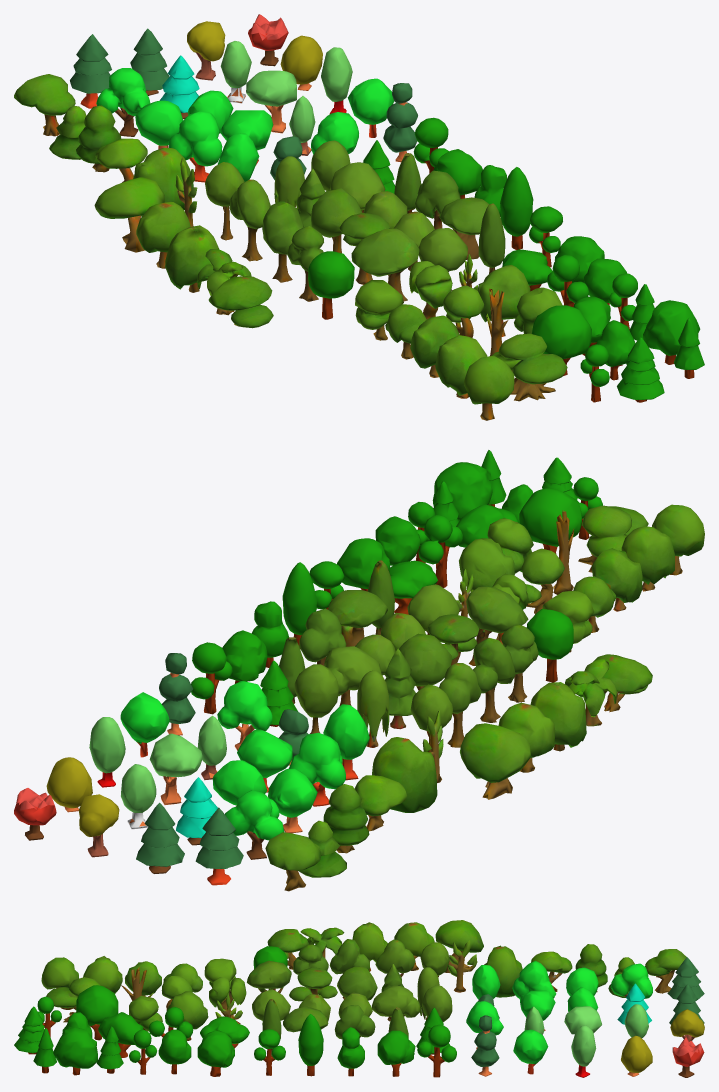
The model's file is Treesblend.fbx.
3 renders of one model, top to bottom at view 1: azimuth 30°, elevation 25°; view 2: azimuth 150°, elevation 25°; view 3: azimuth 270°, elevation 25°, orthographic. The views are drawn at different scales.
Visible parts, largest first — view 1: NewTrees.022, TREE1.006, NewTrees.017, Trees.014, NewTrees.021, T16, NewTrees.019, NewTrees.010, T18, NewTrees.011, TREE1.001, NewTrees.018 (+68 smaller); view 2: NewTrees.017, NewTrees.015, Trees.014, T16, NewTrees.019, T18, NewTrees.022, TREE1.006, NewTrees.009, T5, T19, T7 (+67 smaller); view 3: Trees.012, Trees.014, NewTrees.017, Trees.008, Trees.006, NewTrees.015, TREE1.014, Trees.007, Trees.003, TREE1.007, TREE1.006, T20 (+67 smaller).
Part boxes in pixels (x1,y1,x2,y2): NewTrees.022: (491,333,567,401); TREE1.006: (351,228,419,301); NewTrees.017: (94,177,164,252); Trees.014: (532,305,591,375); NewTrees.021: (208,276,273,328); T16: (168,111,222,182); NewTrees.019: (165,225,218,292); NewTrees.010: (463,355,514,420); T18: (96,68,150,136); NewTrees.011: (14,74,75,136); TREE1.001: (308,251,354,319); NewTrees.018: (136,201,190,268); NewTrees.017: (460,723,531,799); NewTrees.015: (372,737,437,812); Trees.014: (519,488,581,553); T16: (289,732,345,806); NewTrees.019: (530,682,586,751); T18: (225,790,284,859); NewTrees.022: (578,505,648,572); TREE1.006: (466,586,528,665); NewTrees.009: (621,526,674,591); T5: (217,681,272,750); T19: (195,807,243,885); T7: (149,733,202,804); Trees.012: (53,1027,97,1075); Trees.014: (76,985,118,1040); NewTrees.017: (435,920,483,973); Trees.008: (197,1030,234,1076); Trees.006: (377,1030,415,1076); NewTrees.015: (484,945,522,997); TREE1.014: (372,985,420,1019); Trees.007: (417,1024,456,1077); Trees.003: (298,1014,323,1076); TREE1.007: (289,967,337,1001); TREE1.006: (247,960,291,993); T20: (471,1015,499,1076).
Size of the model in its own units: 1392 by 324 by 3228.
18 materials, 2 textured.
